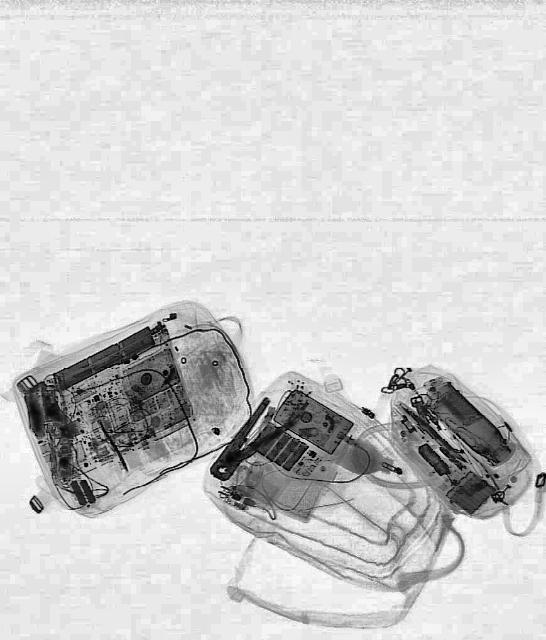Pliers: (201, 394, 294, 492)
